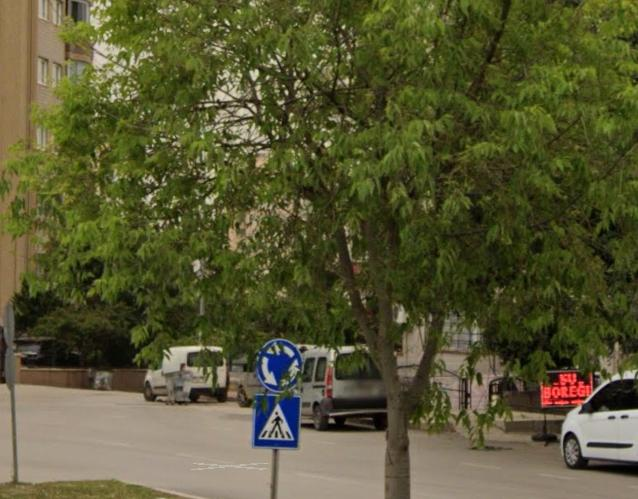crossroads: (263, 342, 301, 389)
